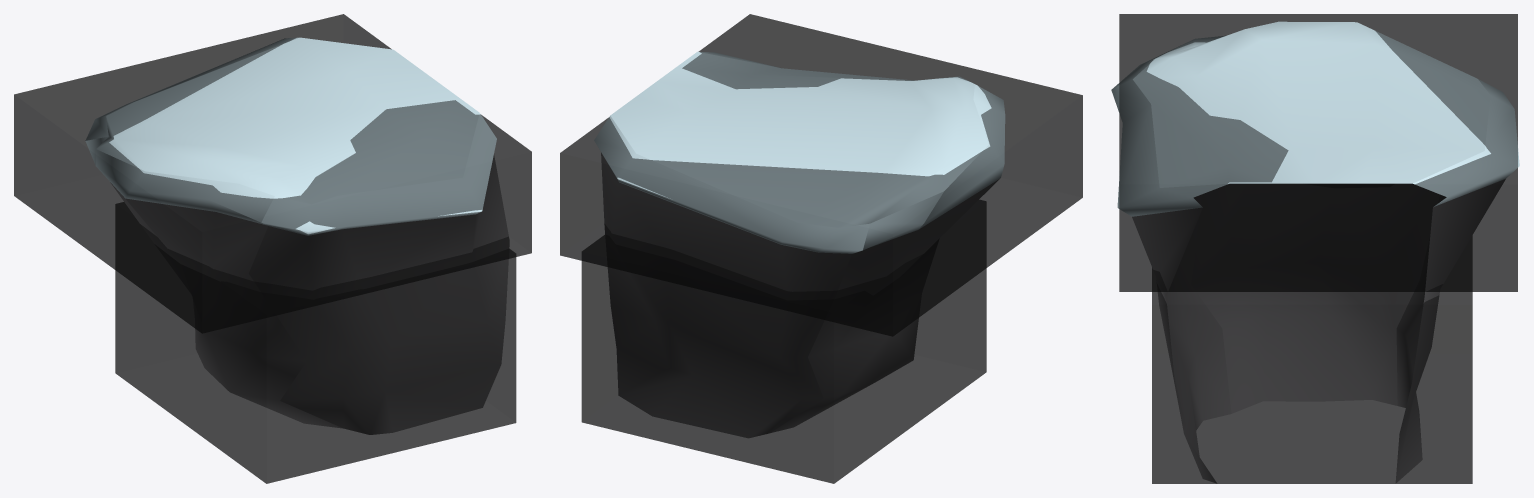
Rendered from Cliffside_1.fbx.
3 renders of one model, left to right at view 1: azimuth 30°, elevation 25°; view 2: azimuth 150°, elevation 25°; view 3: azimuth 270°, elevation 25°, orthographic. The views are drawn at different scales.
Visible parts, largest first — view 1: Cliffside_1, Cliffside_1_BBox1, Cliffside_1_BBox; view 2: Cliffside_1, Cliffside_1_BBox1, Cliffside_1_BBox; view 3: Cliffside_1, Cliffside_1_BBox1, Cliffside_1_BBox.
Boxes of the visible parts, box(x1,y1,x2,y2) form: Cliffside_1: box(85, 37, 509, 434); Cliffside_1_BBox1: box(14, 14, 531, 333); Cliffside_1_BBox: box(115, 202, 516, 483); Cliffside_1: box(594, 51, 1005, 438); Cliffside_1_BBox1: box(560, 14, 1082, 336); Cliffside_1_BBox: box(581, 200, 986, 483); Cliffside_1: box(1111, 21, 1519, 483); Cliffside_1_BBox1: box(1119, 14, 1517, 291); Cliffside_1_BBox: box(1152, 184, 1472, 483).
Bounding box in the file's own units: 15.87 × 13.73 × 16.07.
